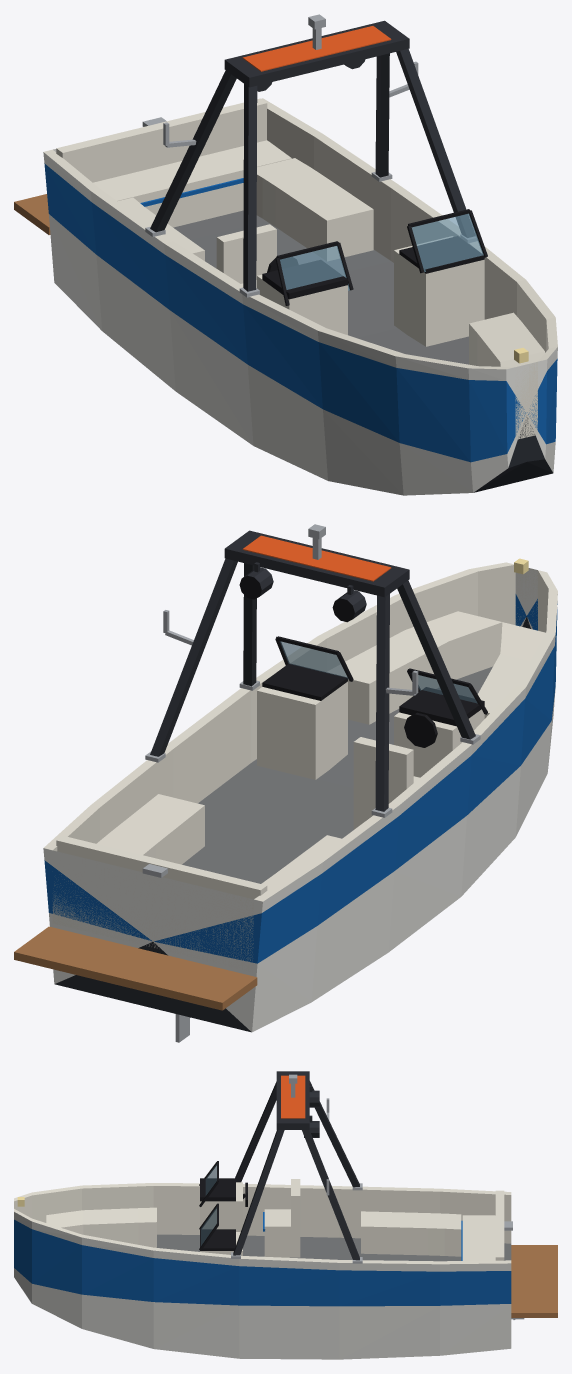
The model's file is wakeboat.obj.
3 renders of one model, top to bottom at view 1: azimuth 30°, elevation 25°; view 2: azimuth 150°, elevation 25°; view 3: azimuth 270°, elevation 25°, orthographic. The views are drawn at different scales.
Parts seen in each view (by area): view 1: Body, Glass; view 2: Body, Glass; view 3: Body, Glass.
Part boxes in pixels (left/top/right/bottom): Body: left=14, top=14, right=557, bottom=495; Glass: left=280, top=213, right=483, bottom=290; Body: left=14, top=524, right=557, bottom=1042; Glass: left=280, top=641, right=477, bottom=703; Body: left=14, top=1071, right=557, bottom=1359; Glass: left=201, top=1164, right=216, bottom=1245.
Size of the model in its own units: 2.71 by 4.23 by 7.6.
2 materials, 2 textured.
